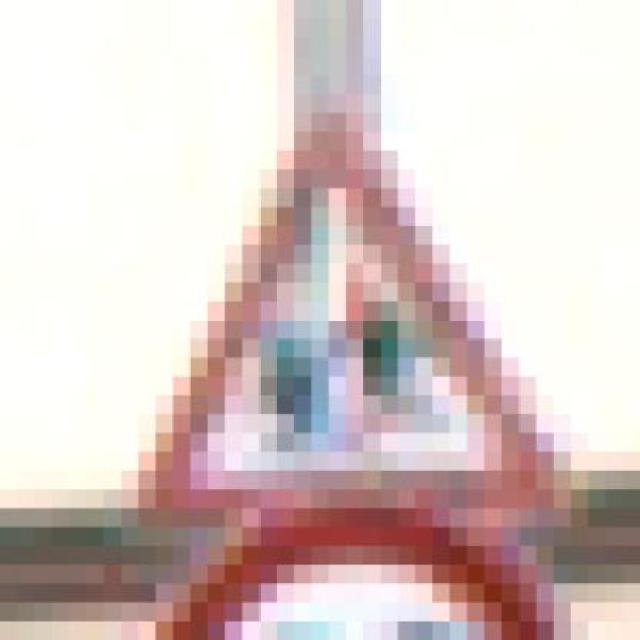Beware of children: (104, 112, 588, 546)
